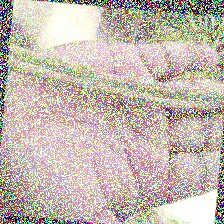Leaf_Blast: (13, 50, 224, 103)
